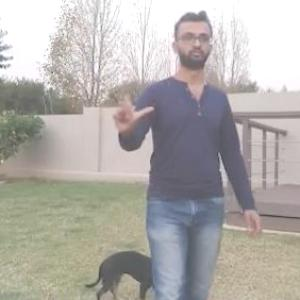land_hand: (103, 77, 154, 134)
